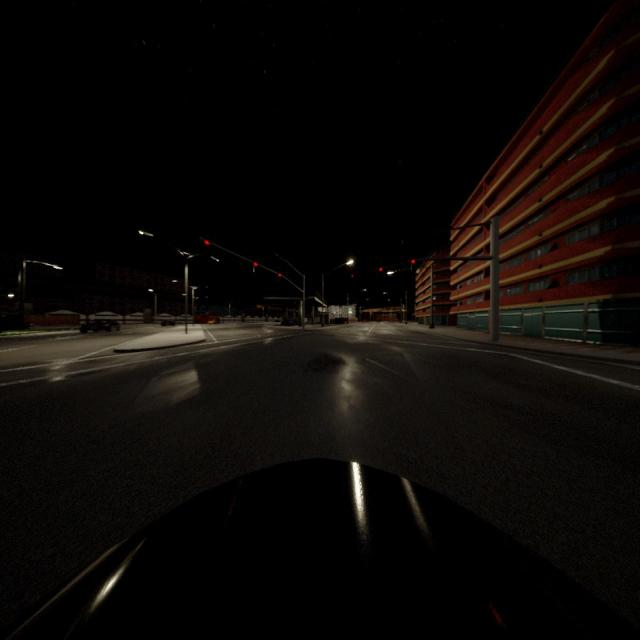Vehicle: (0, 463, 640, 637), (80, 319, 120, 333), (0, 314, 23, 330), (196, 315, 219, 324), (281, 319, 295, 326), (335, 317, 347, 324), (162, 320, 174, 326)
traffic_light: (253, 262, 258, 272), (204, 240, 210, 245), (278, 273, 281, 282), (412, 259, 416, 264), (351, 274, 354, 278), (379, 268, 382, 271)
